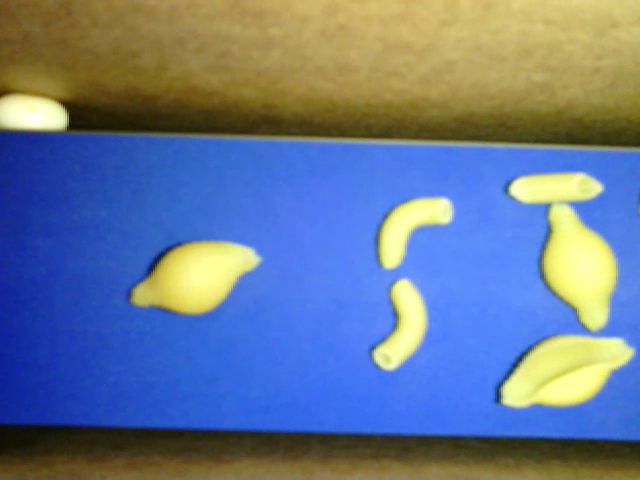elbow: (375, 196, 455, 269), (370, 278, 428, 371)
penne: (508, 170, 604, 205)
shell: (498, 332, 635, 409), (130, 240, 262, 317), (542, 203, 616, 330)
